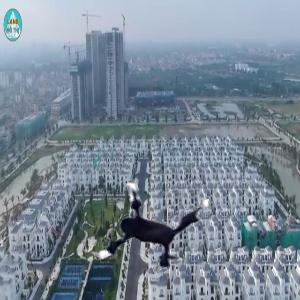drone: (76, 147, 223, 294)
